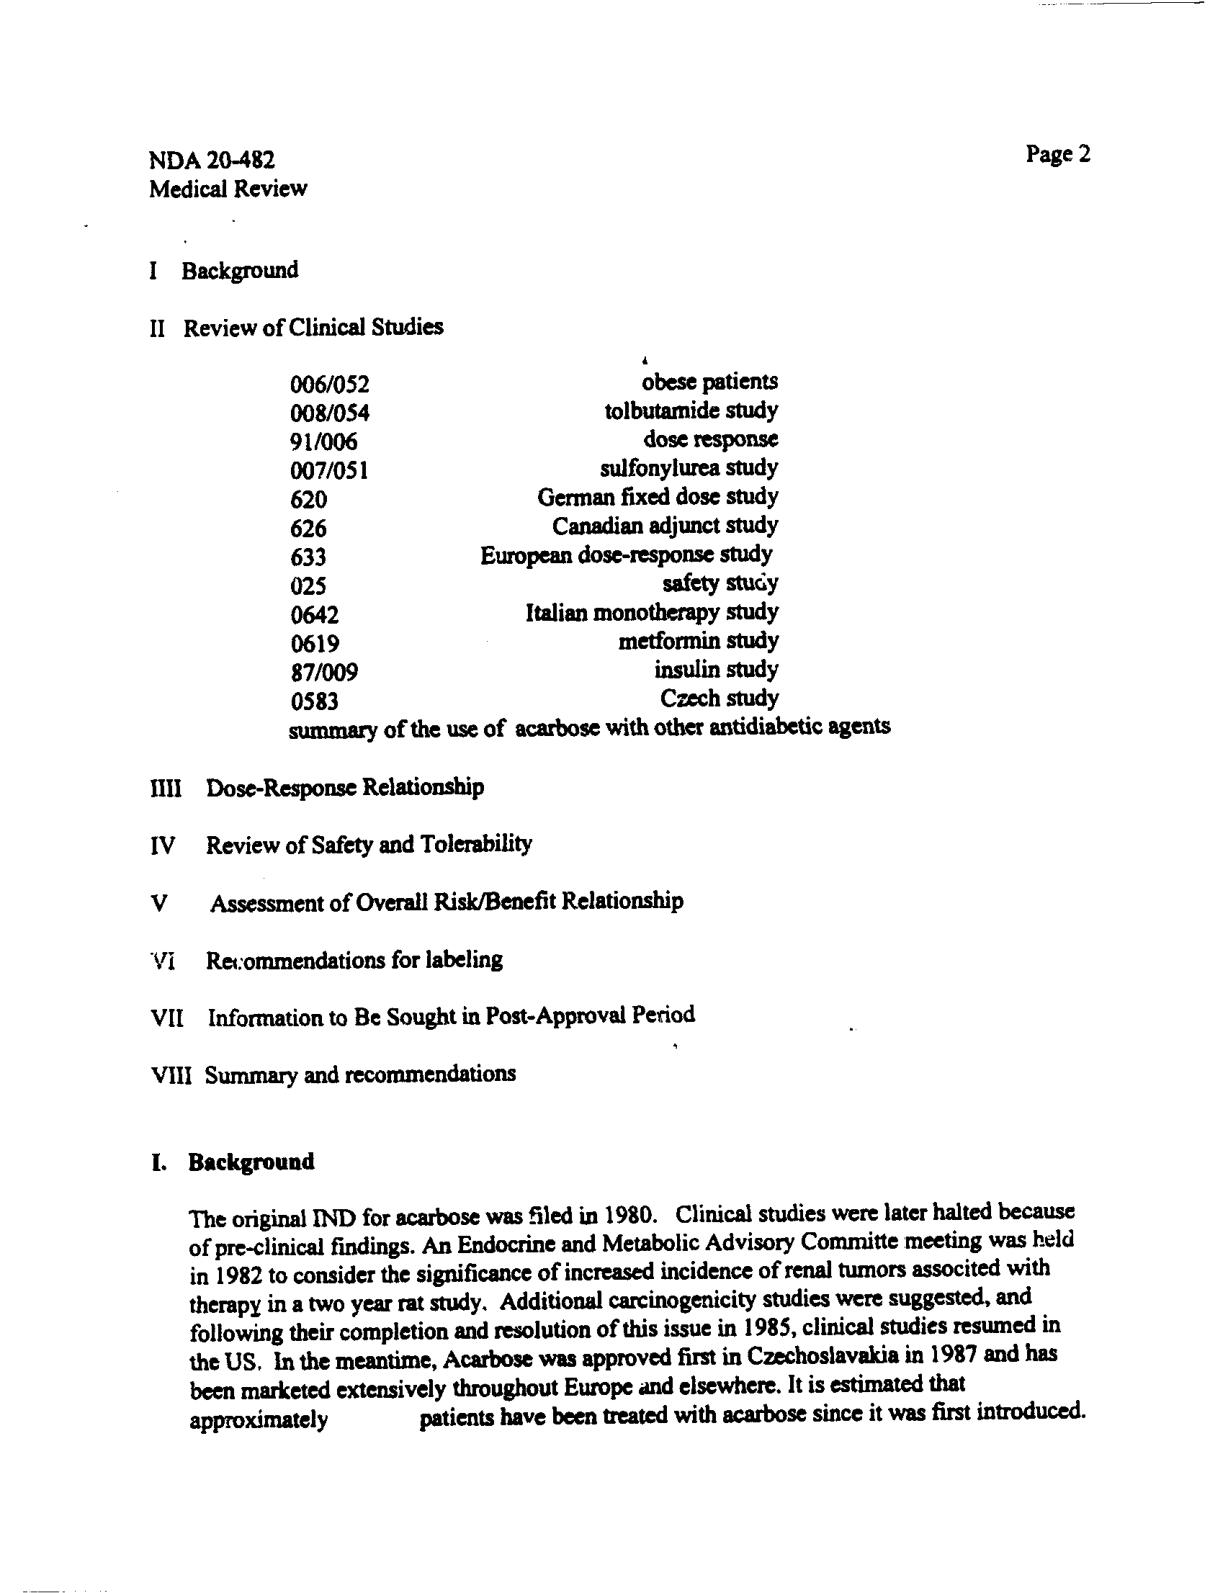nolines: (286, 371, 784, 709)
